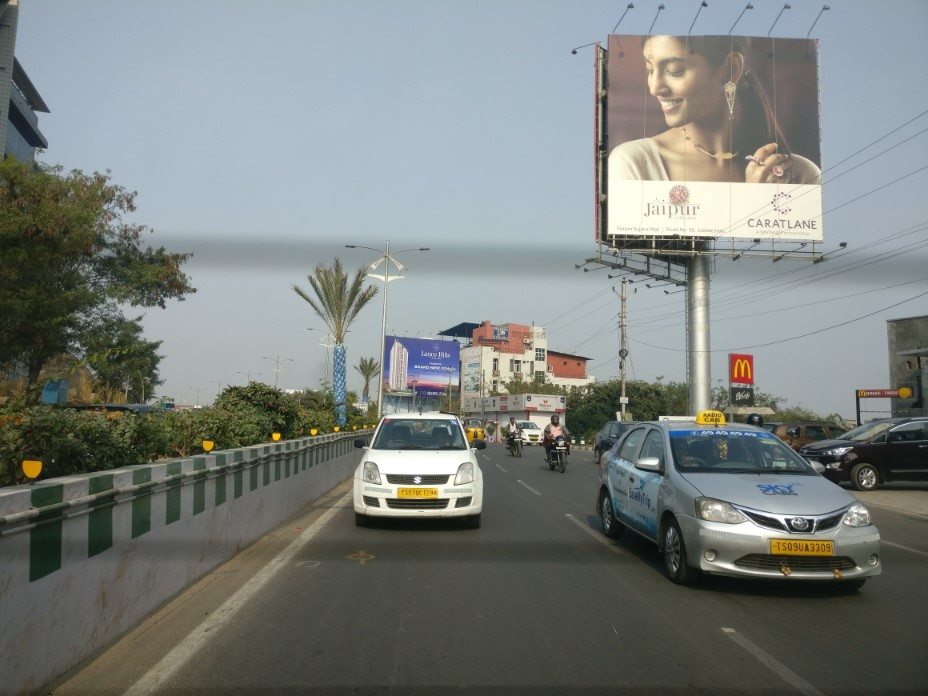swift desire: (352, 412, 485, 530)
